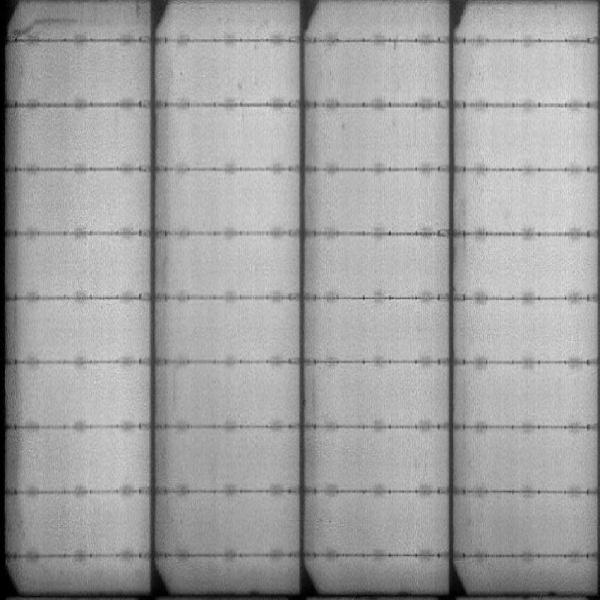scratch: (13, 13, 87, 37)
